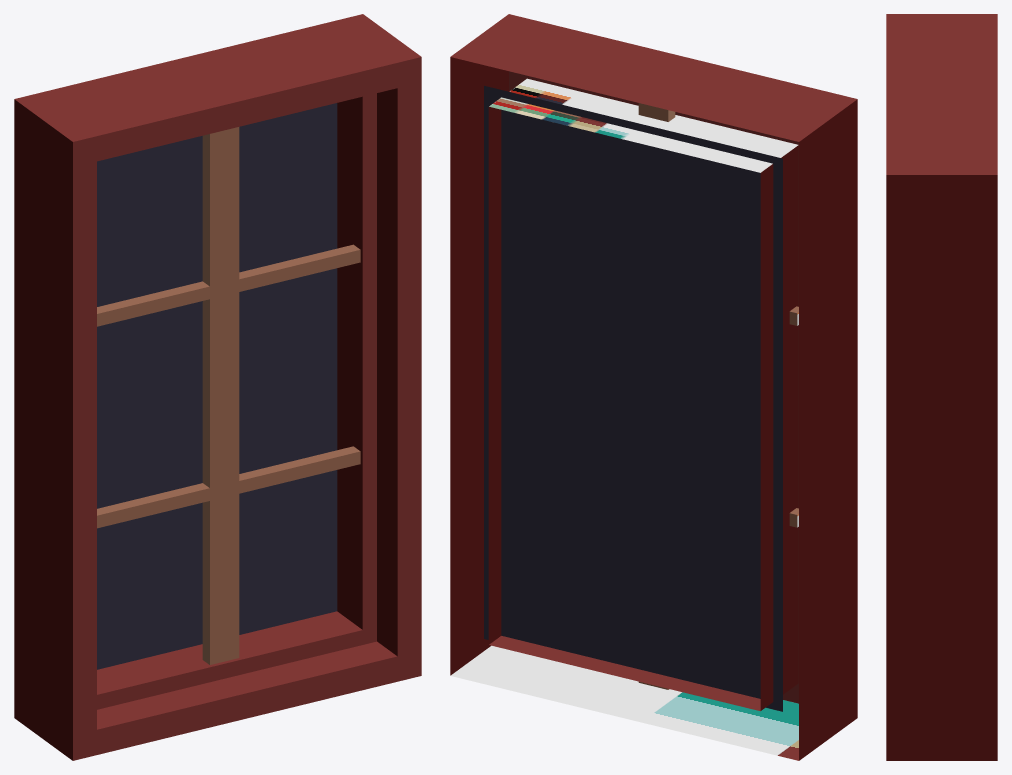
File: window.fbx
3 views of the same model, side by side, from view 1: azimuth 30°, elevation 25°; view 2: azimuth 150°, elevation 25°; view 3: azimuth 270°, elevation 25° (orthographic). The views are drawn at different scales.
Parts seen in each view (by area): view 1: window; view 2: window; view 3: window.
Part boxes in pixels (<box>): window: <box>14,14,421,760</box>; window: <box>450,14,857,760</box>; window: <box>886,14,997,760</box>.
Bounding box in the file's own units: 4.79 × 8.12 × 1.39.
